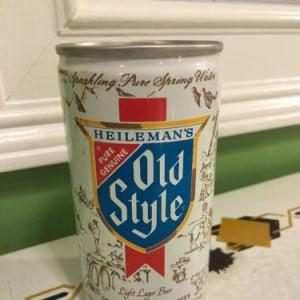beer: (54, 44, 223, 300)
